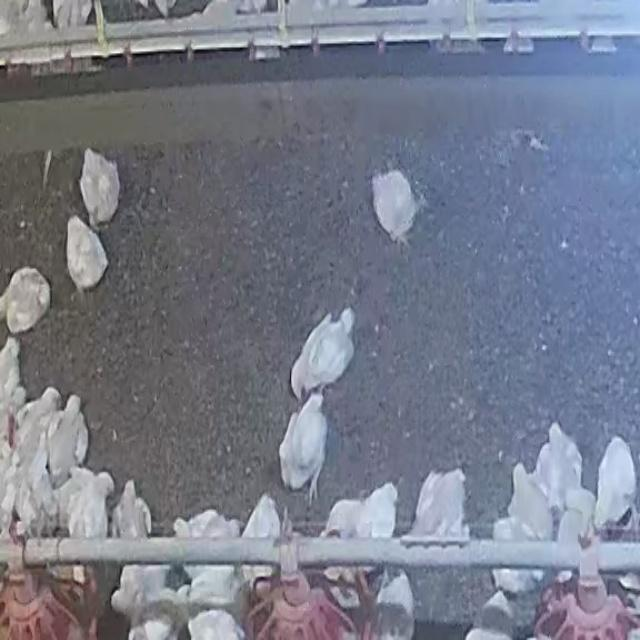chicken: (286, 304, 359, 402), (271, 397, 330, 501), (364, 162, 424, 252), (75, 146, 127, 229), (536, 424, 583, 515), (60, 212, 111, 295), (43, 395, 92, 477), (0, 264, 51, 334), (508, 463, 551, 538)
